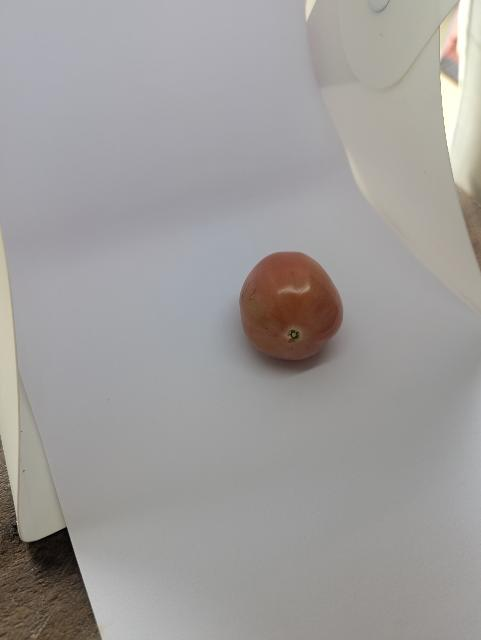turning: (229, 239, 353, 384)
